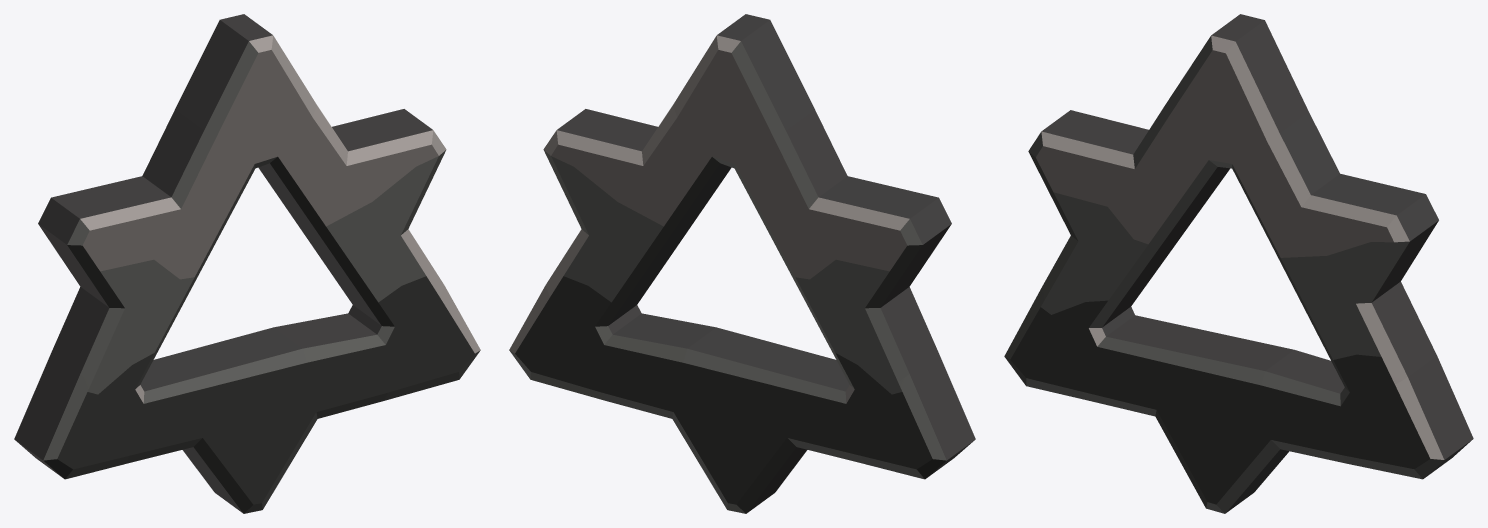
The model's file is SM_Prop_Rune_01.fbx.
3 views of the same model, side by side, from view 1: azimuth 30°, elevation 25°; view 2: azimuth 150°, elevation 25°; view 3: azimuth 330°, elevation 25° (orthographic).
Parts seen in each view (by area): view 1: SM_Prop_Rune_01; view 2: SM_Prop_Rune_01; view 3: SM_Prop_Rune_01.
Boxes of the visible parts, left/top/right/bottom form: SM_Prop_Rune_01: left=14, top=14, right=480, bottom=513; SM_Prop_Rune_01: left=509, top=14, right=975, bottom=513; SM_Prop_Rune_01: left=1004, top=14, right=1473, bottom=513.
Size of the model in its own units: 113 by 117 by 16.62.
1 material, 1 textured.
